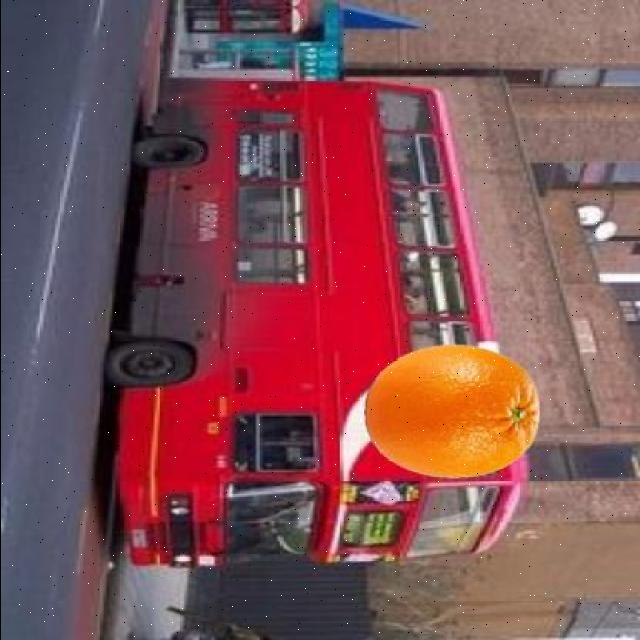Orange: (363, 342, 543, 480)
